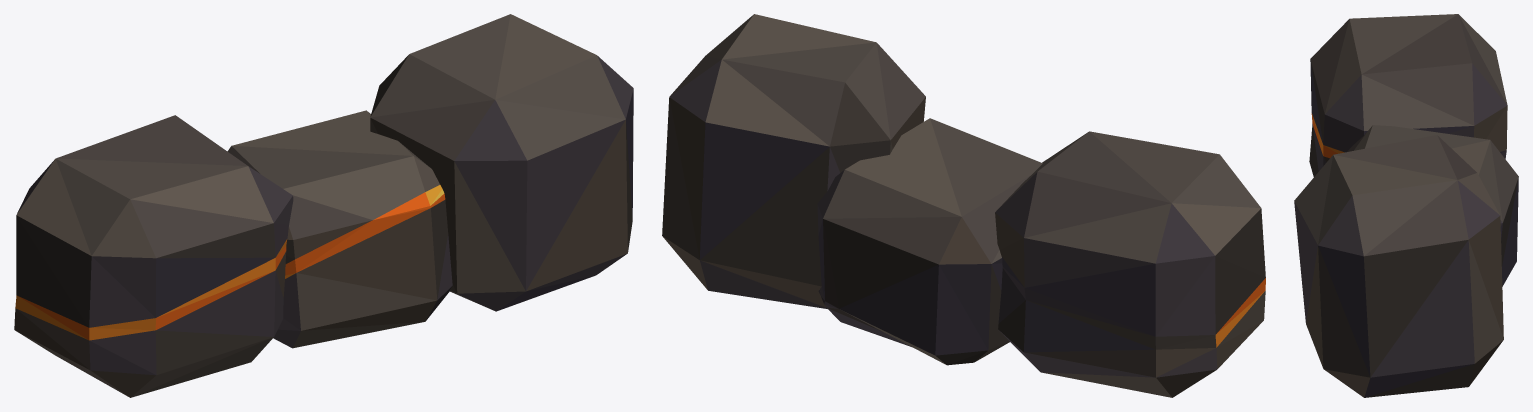
The model's file is mine-lava-rock-1.glb.
3 renders of one model, left to right at view 1: azimuth 30°, elevation 25°; view 2: azimuth 150°, elevation 25°; view 3: azimuth 270°, elevation 25°, orthographic. The views are drawn at different scales.
Visible parts, largest first — view 1: MineLavaRock1; view 2: MineLavaRock1; view 3: MineLavaRock1.
Part boxes in pixels (x1,y1,x2,y2): MineLavaRock1: [14, 14, 633, 397]; MineLavaRock1: [662, 14, 1265, 397]; MineLavaRock1: [1294, 14, 1518, 397].
Size of the model in its own units: 3.35 by 1.29 by 1.29.
